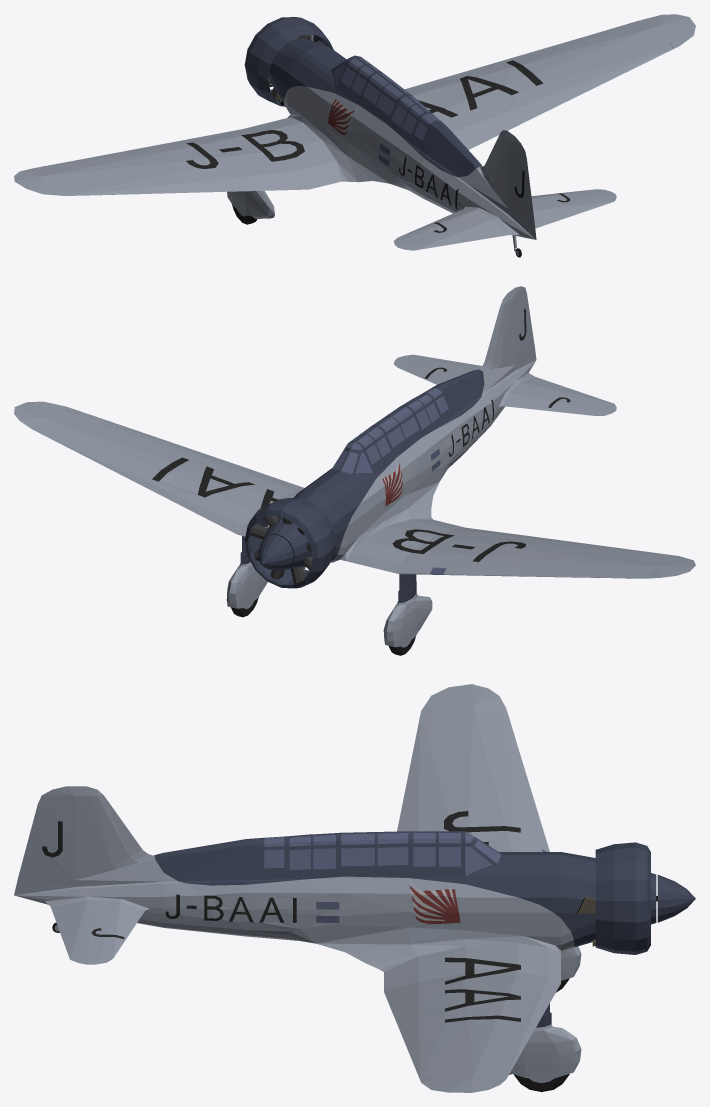
Rendered from kamikazeNP.obj.
3 renders of one model, top to bottom at view 1: azimuth 30°, elevation 25°; view 2: azimuth 150°, elevation 25°; view 3: azimuth 270°, elevation 25°, orthographic. The views are drawn at different scales.
Visible parts, largest first — view 1: ShapeIndexedFaceSet.001_ShapeIndexedFaceSet.002, ShapeIndexedFaceSet_ShapeIndexedFaceSet.001, ShapeIndexedFaceSet.023_ShapeIndexedFaceSet.024, ShapeIndexedFaceSet.009_ShapeIndexedFaceSet.010, ShapeIndexedFaceSet.014_ShapeIndexedFaceSet.015, ShapeIndexedFaceSet.020_ShapeIndexedFaceSet.021, ShapeIndexedFaceSet.017_ShapeIndexedFaceSet.018, ShapeIndexedFaceSet.015_ShapeIndexedFaceSet.016, ShapeIndexedFaceSet.006_ShapeIndexedFaceSet.007; view 2: ShapeIndexedFaceSet.001_ShapeIndexedFaceSet.002, ShapeIndexedFaceSet_ShapeIndexedFaceSet.001, ShapeIndexedFaceSet.023_ShapeIndexedFaceSet.024, ShapeIndexedFaceSet.009_ShapeIndexedFaceSet.010, ShapeIndexedFaceSet.014_ShapeIndexedFaceSet.015, ShapeIndexedFaceSet.015_ShapeIndexedFaceSet.016, ShapeIndexedFaceSet.020_ShapeIndexedFaceSet.021, ShapeIndexedFaceSet.004_ShapeIndexedFaceSet.005; view 3: ShapeIndexedFaceSet.001_ShapeIndexedFaceSet.002, ShapeIndexedFaceSet_ShapeIndexedFaceSet.001, ShapeIndexedFaceSet.023_ShapeIndexedFaceSet.024, ShapeIndexedFaceSet.015_ShapeIndexedFaceSet.016, ShapeIndexedFaceSet.009_ShapeIndexedFaceSet.010, ShapeIndexedFaceSet.017_ShapeIndexedFaceSet.018, ShapeIndexedFaceSet.014_ShapeIndexedFaceSet.015, ShapeIndexedFaceSet.020_ShapeIndexedFaceSet.021, ShapeIndexedFaceSet.006_ShapeIndexedFaceSet.007.
Part boxes in pixels (<box>): ShapeIndexedFaceSet.001_ShapeIndexedFaceSet.002: <box>14,14,695,255</box>; ShapeIndexedFaceSet_ShapeIndexedFaceSet.001: <box>244,17,482,177</box>; ShapeIndexedFaceSet.023_ShapeIndexedFaceSet.024: <box>332,56,440,166</box>; ShapeIndexedFaceSet.009_ShapeIndexedFaceSet.010: <box>186,60,570,232</box>; ShapeIndexedFaceSet.014_ShapeIndexedFaceSet.015: <box>398,194,616,250</box>; ShapeIndexedFaceSet.020_ShapeIndexedFaceSet.021: <box>510,43,673,124</box>; ShapeIndexedFaceSet.017_ShapeIndexedFaceSet.018: <box>66,177,246,195</box>; ShapeIndexedFaceSet.015_ShapeIndexedFaceSet.016: <box>500,130,534,224</box>; ShapeIndexedFaceSet.006_ShapeIndexedFaceSet.007: <box>14,22,631,181</box>; ShapeIndexedFaceSet.001_ShapeIndexedFaceSet.002: <box>14,298,695,647</box>; ShapeIndexedFaceSet_ShapeIndexedFaceSet.001: <box>240,369,484,602</box>; ShapeIndexedFaceSet.023_ShapeIndexedFaceSet.024: <box>332,388,448,574</box>; ShapeIndexedFaceSet.009_ShapeIndexedFaceSet.010: <box>152,367,570,561</box>; ShapeIndexedFaceSet.014_ShapeIndexedFaceSet.015: <box>398,354,616,410</box>; ShapeIndexedFaceSet.015_ShapeIndexedFaceSet.016: <box>500,286,534,364</box>; ShapeIndexedFaceSet.020_ShapeIndexedFaceSet.021: <box>66,408,246,469</box>; ShapeIndexedFaceSet.004_ShapeIndexedFaceSet.005: <box>250,516,312,583</box>; ShapeIndexedFaceSet.001_ShapeIndexedFaceSet.002: <box>14,684,581,1092</box>; ShapeIndexedFaceSet_ShapeIndexedFaceSet.001: <box>154,831,695,1027</box>; ShapeIndexedFaceSet.023_ShapeIndexedFaceSet.024: <box>264,831,546,922</box>; ShapeIndexedFaceSet.015_ShapeIndexedFaceSet.016: <box>18,786,103,879</box>; ShapeIndexedFaceSet.009_ShapeIndexedFaceSet.010: <box>91,811,520,1022</box>; ShapeIndexedFaceSet.017_ShapeIndexedFaceSet.018: <box>397,713,433,831</box>; ShapeIndexedFaceSet.014_ShapeIndexedFaceSet.015: <box>51,900,87,964</box>; ShapeIndexedFaceSet.020_ShapeIndexedFaceSet.021: <box>393,1007,433,1080</box>; ShapeIndexedFaceSet.006_ShapeIndexedFaceSet.007: <box>410,684,513,923</box>.
Bounding box in the file's own units: 120 × 35.1 × 84.6.
